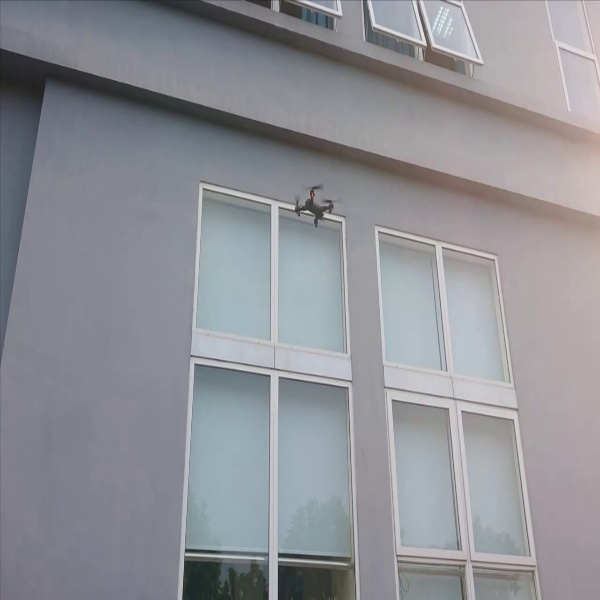drone: (282, 178, 346, 230)
